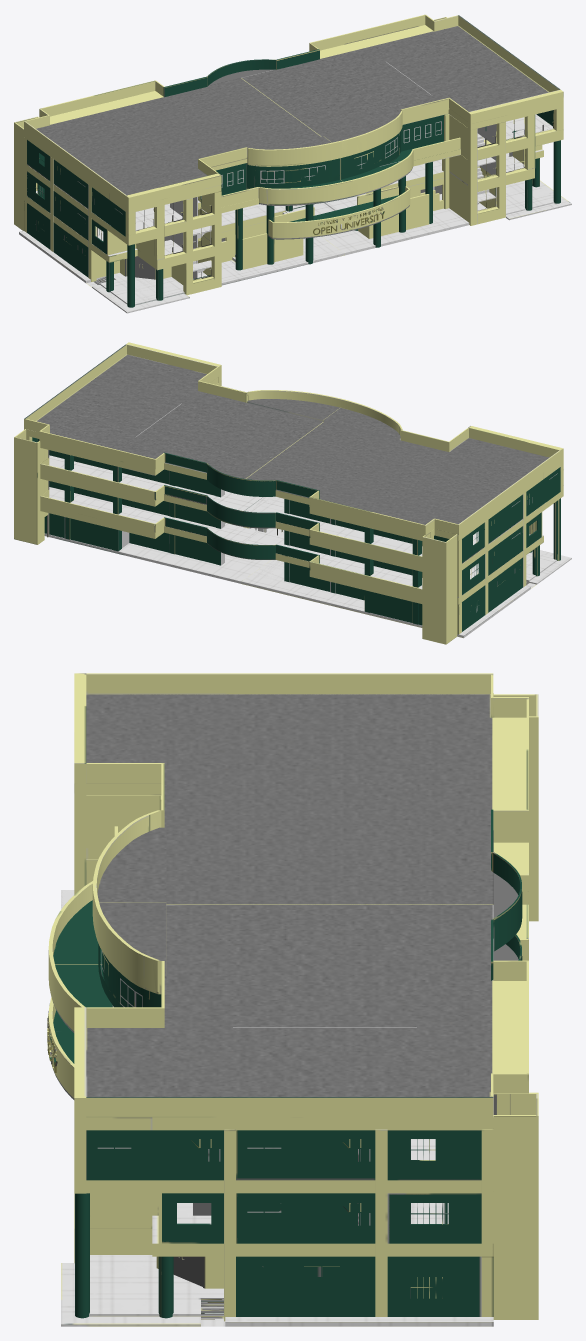
Rendered from Main Bldg Corrected Spelling_Baked.fbx.
3 views of the same model, one above another, from view 1: azimuth 30°, elevation 25°; view 2: azimuth 150°, elevation 25°; view 3: azimuth 270°, elevation 25° (orthographic). The views are drawn at different scales.
Visible parts, largest first — view 1: Cube.118, bake; view 2: Cube.118, bake; view 3: Cube.118, bake.
Boxes of the visible parts, x1=… form: Cube.118: x1=14, y1=14, x2=571, y2=313; bake: x1=19, y1=26, x2=571, y2=312; Cube.118: x1=14, y1=342, x2=571, y2=644; bake: x1=35, y1=355, x2=571, y2=636; Cube.118: x1=47, y1=673, x2=538, y2=1326; bake: x1=47, y1=694, x2=538, y2=1326.
Bounding box in the file's own units: 4639 × 1121 × 2220.
